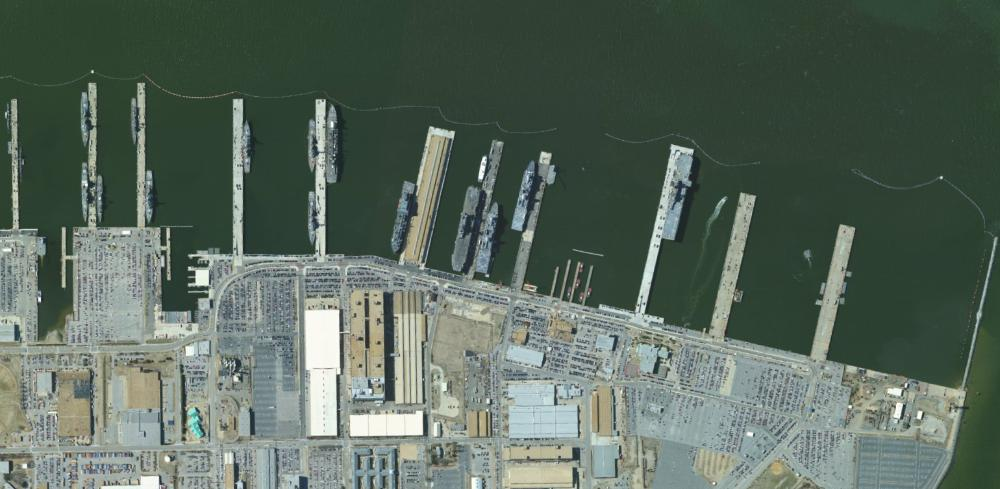amphiby: (512, 152, 545, 234), (478, 201, 504, 277)
cruiser: (77, 163, 90, 223)
destroyer: (96, 173, 108, 224), (127, 96, 139, 146)
fregate: (141, 169, 161, 227), (302, 190, 322, 246), (238, 119, 257, 175), (79, 90, 93, 148), (305, 119, 317, 171)
pha: (662, 142, 695, 247), (448, 180, 482, 274)
tender: (383, 178, 419, 256), (322, 100, 344, 189)
